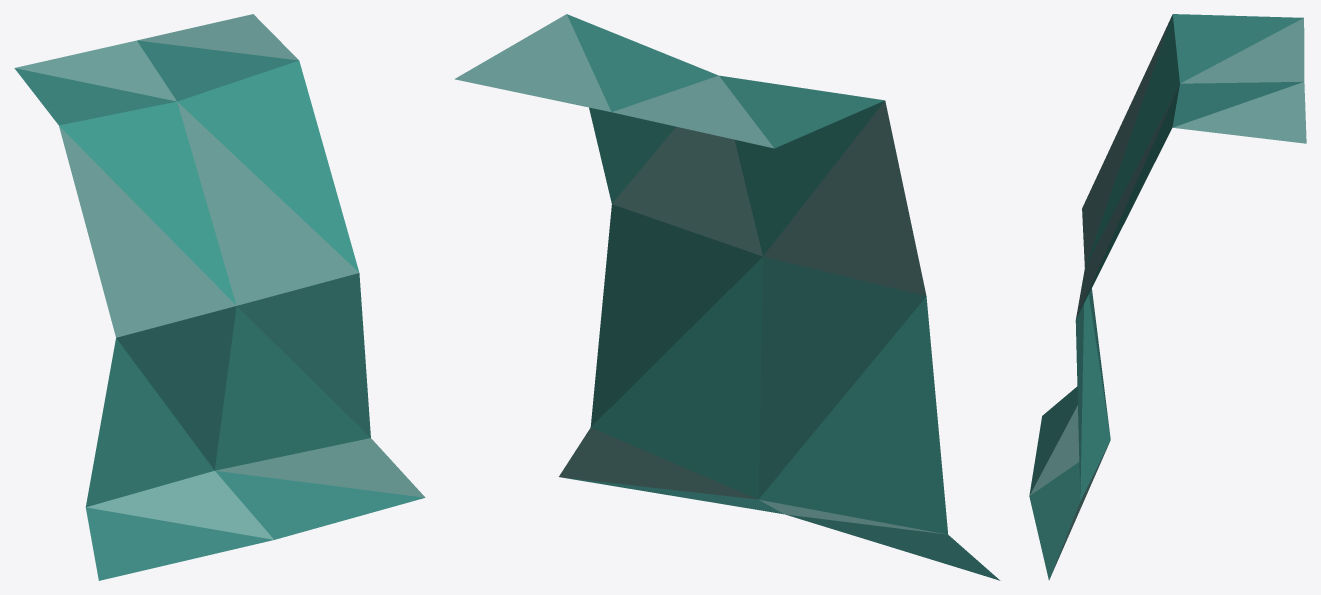
The model's file is Waterfall_small.fbx.
The picture shows the model from 3 angles, left to right: view 1: azimuth 30°, elevation 25°; view 2: azimuth 150°, elevation 25°; view 3: azimuth 270°, elevation 25°; orthographic projection. The views are drawn at different scales.
Parts seen in each view (by area): view 1: Waterfall_small; view 2: Waterfall_small; view 3: Waterfall_small.
Boxes of the visible parts, left/top/right/bottom form: Waterfall_small: left=14, top=14, right=425, bottom=580; Waterfall_small: left=454, top=14, right=1000, bottom=580; Waterfall_small: left=1029, top=14, right=1306, bottom=580.
Size of the model in its own units: 498 by 591 by 353.
